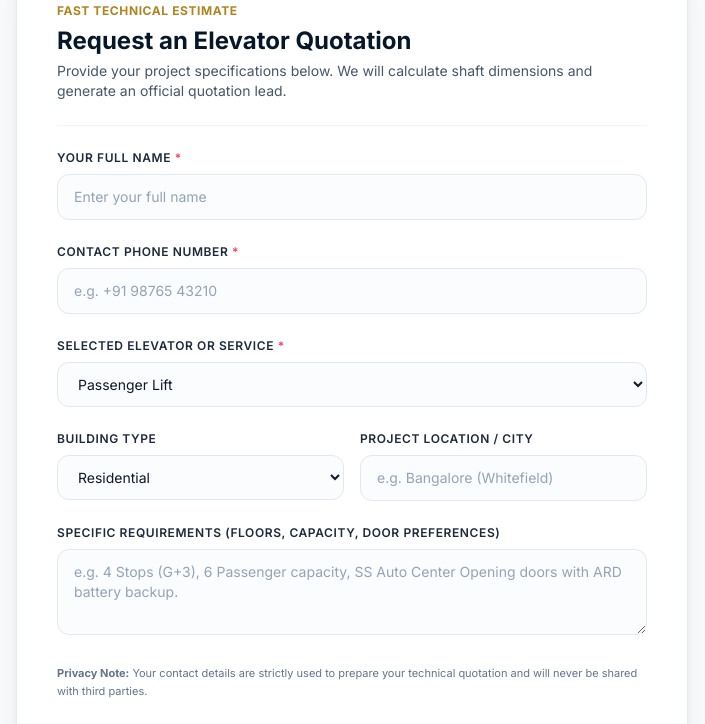
Test: QuotationForm Component › launches WhatsApp and renders confirmation when WhatsApp lead delivery is configured
The width and height of the screenshot is (705, 724).
In the field labelled "Your Full Name *": x=352, y=197 [57,174,647,220], type "Naveen Gowda"
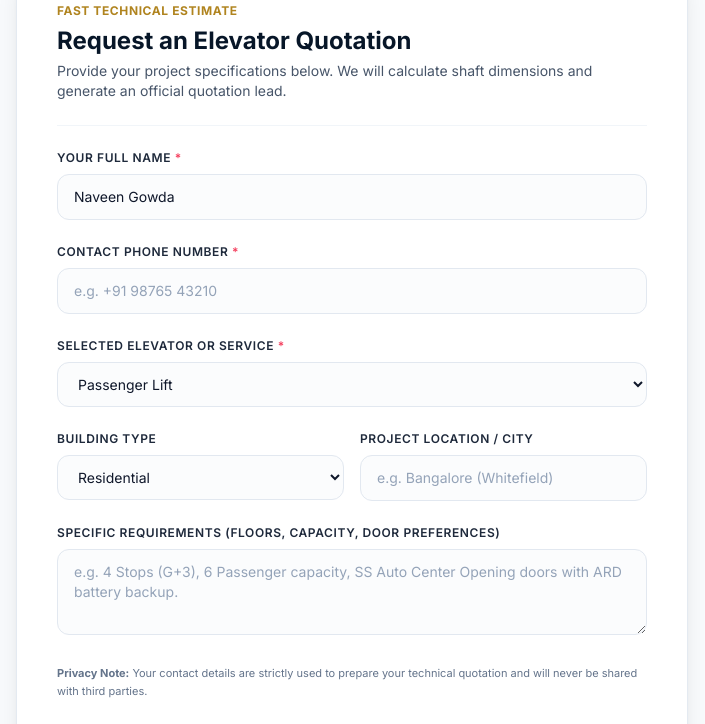
In the field labelled "Contact Phone Number *": x=352, y=291 [57,268,647,314], type "+91 9986028416"
(page scrolled)
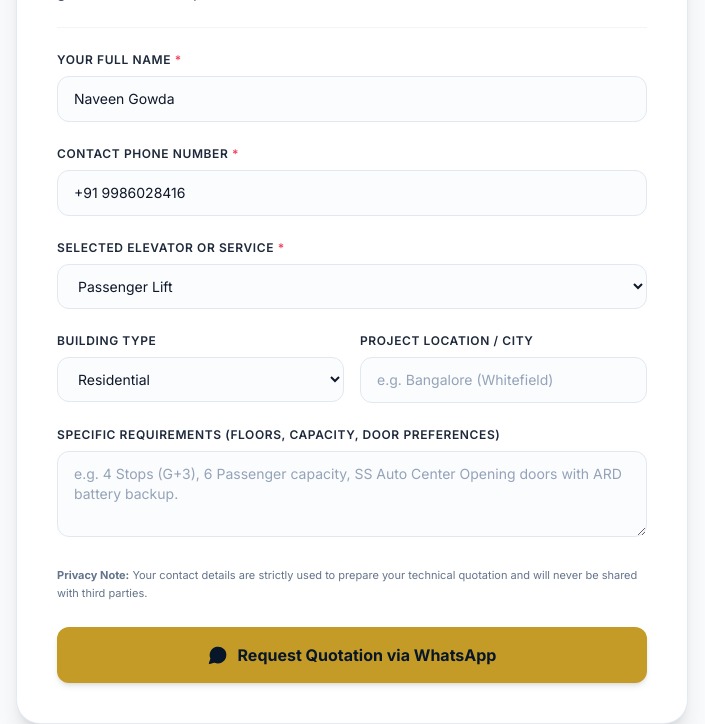
Click the button "Request Quotation via WhatsApp": x=352, y=655 [57,627,647,683]
(page scrolled)
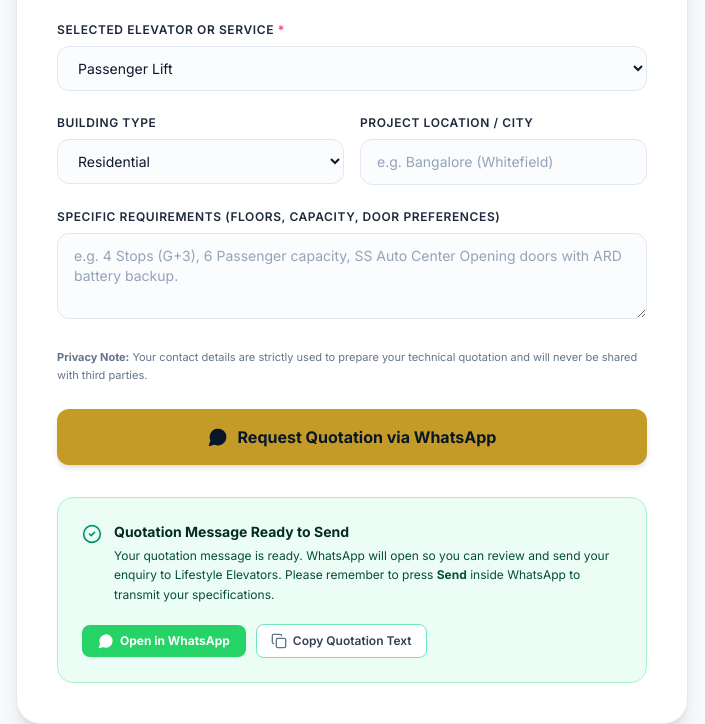
expect the heading "Quotation Message Ready to Send" is shown: met, box [114,523,349,540]
expect the text "Your quotation message is ready. WhatsApp will open" is shown: met, box [114,548,609,582]
